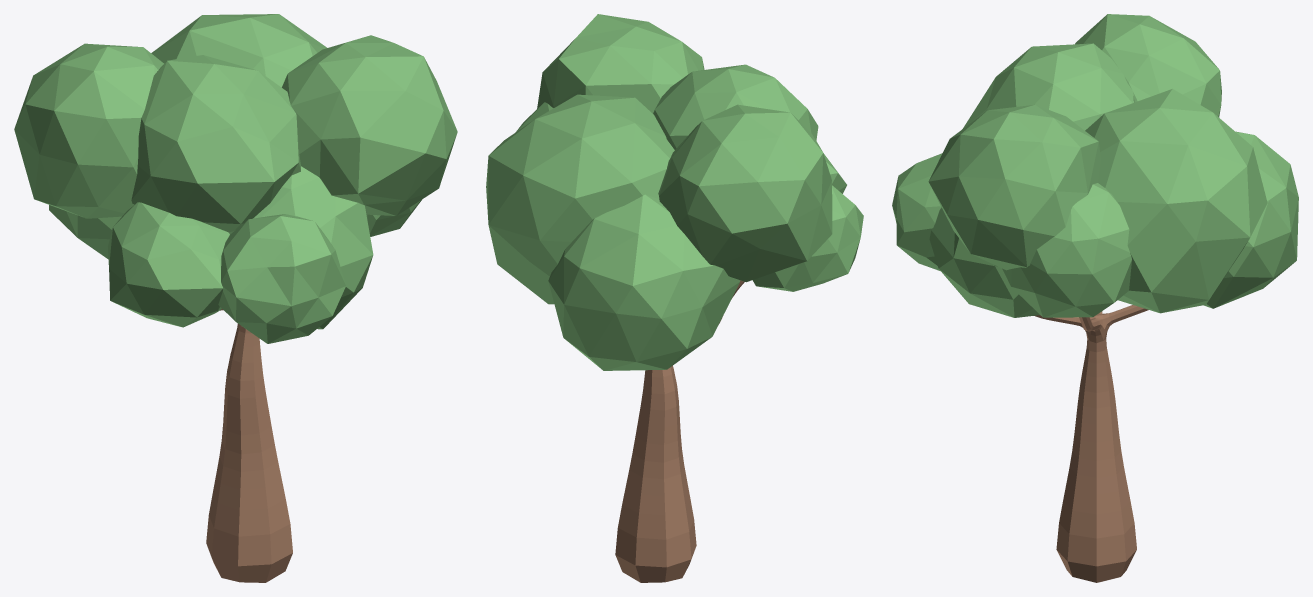
The model's file is Tree 3.fbx.
3 views of the same model, side by side, from view 1: azimuth 30°, elevation 25°; view 2: azimuth 150°, elevation 25°; view 3: azimuth 270°, elevation 25° (orthographic). The views are drawn at different scales.
Parts seen in each view (by area): view 1: Icosphere, Plane; view 2: Icosphere, Plane; view 3: Icosphere, Plane.
Part boxes in pixels (x1,y1,x2,y2): Icosphere: (14, 14, 457, 343); Plane: (206, 309, 292, 582); Icosphere: (486, 14, 863, 370); Plane: (615, 280, 744, 582); Icosphere: (892, 14, 1298, 317); Plane: (1034, 305, 1148, 582).
Bounding box in the file's own units: 2289 × 3358 × 2475.
